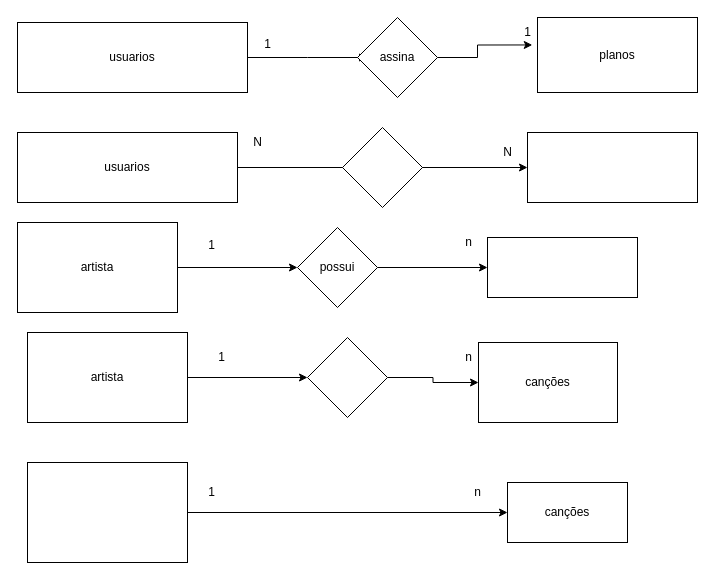
This 715x580 diagram has some shape labels left out. Here are the shapes that lost their labels. From the top down, the box of each, then its label:
(342, 126, 422, 208): segue
(526, 132, 698, 202): artistas
(486, 236, 638, 298): albuns
(306, 336, 388, 418): compõe
(26, 462, 188, 562): album
